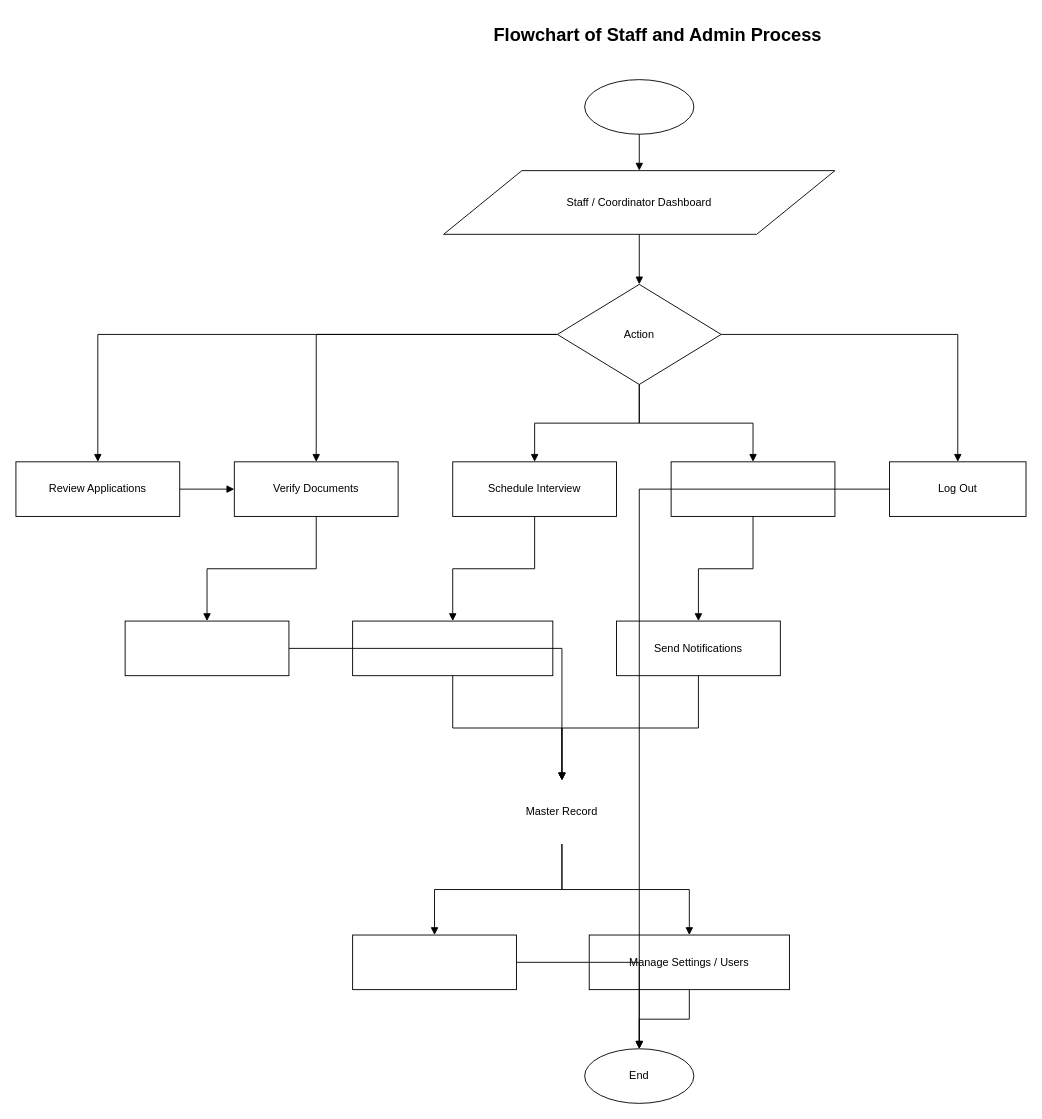
The diagram is 1042 pixels wide and 1119 high, and some of its shapes have lost their labels. Each missing label, with the centre of its shape:
"Add Case Notes" goes at point (206, 648).
"Generate Reports" goes at point (434, 962).
"Manage Payout" goes at point (752, 488).
"Record Interview Results" goes at point (452, 648).
"Start" goes at point (639, 106).
